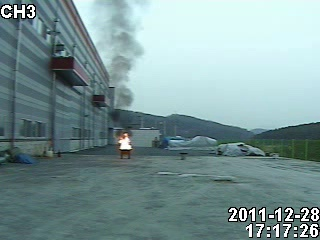fire: (118, 124, 133, 152)
smoke: (95, 2, 144, 117)
